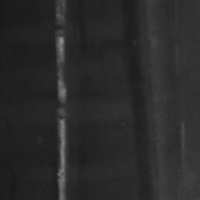scratches: (52, 4, 72, 200)
